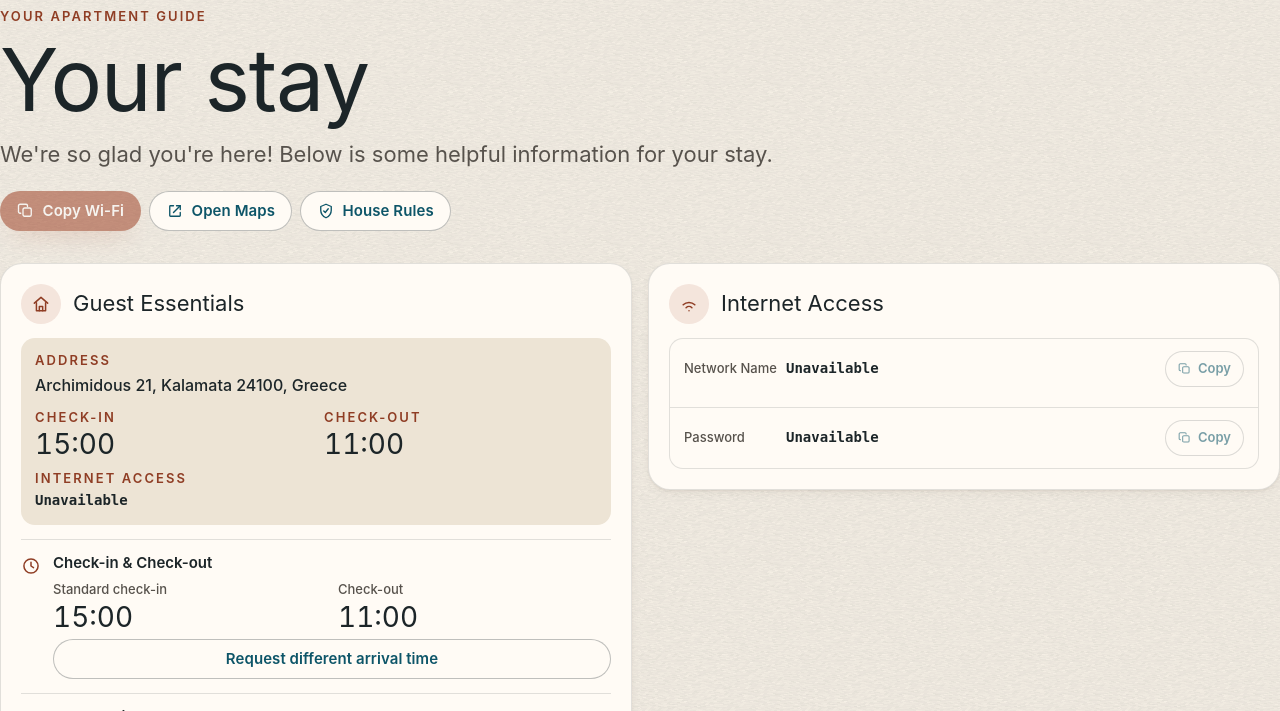
Scenario: check-in arrival-time request › says the new time was not sent when the server kept an earlier pending request
The image size is (1280, 711).
Click the button "Request different arrival time" at (332, 659), box [53, 639, 611, 679]
(page scrolled)
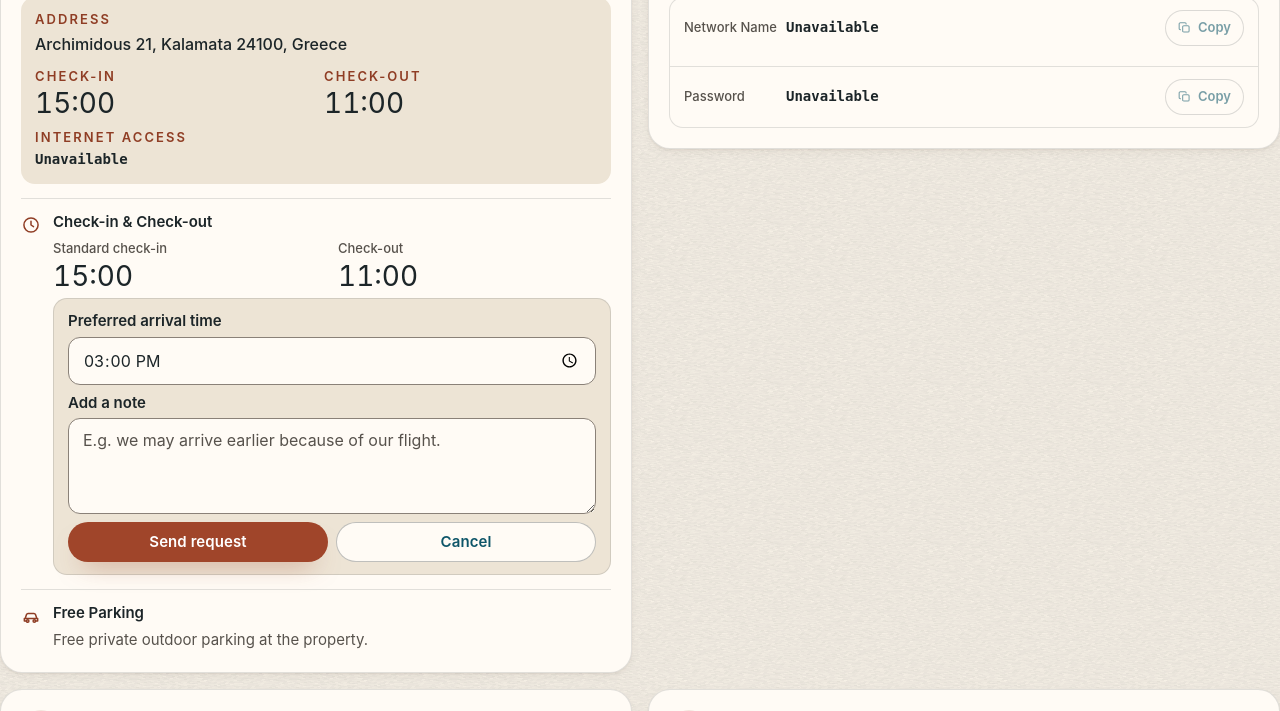
Replace the text in the time field labelled "Preferred arrival time" with "17:00" at (332, 361), box [68, 337, 596, 385]
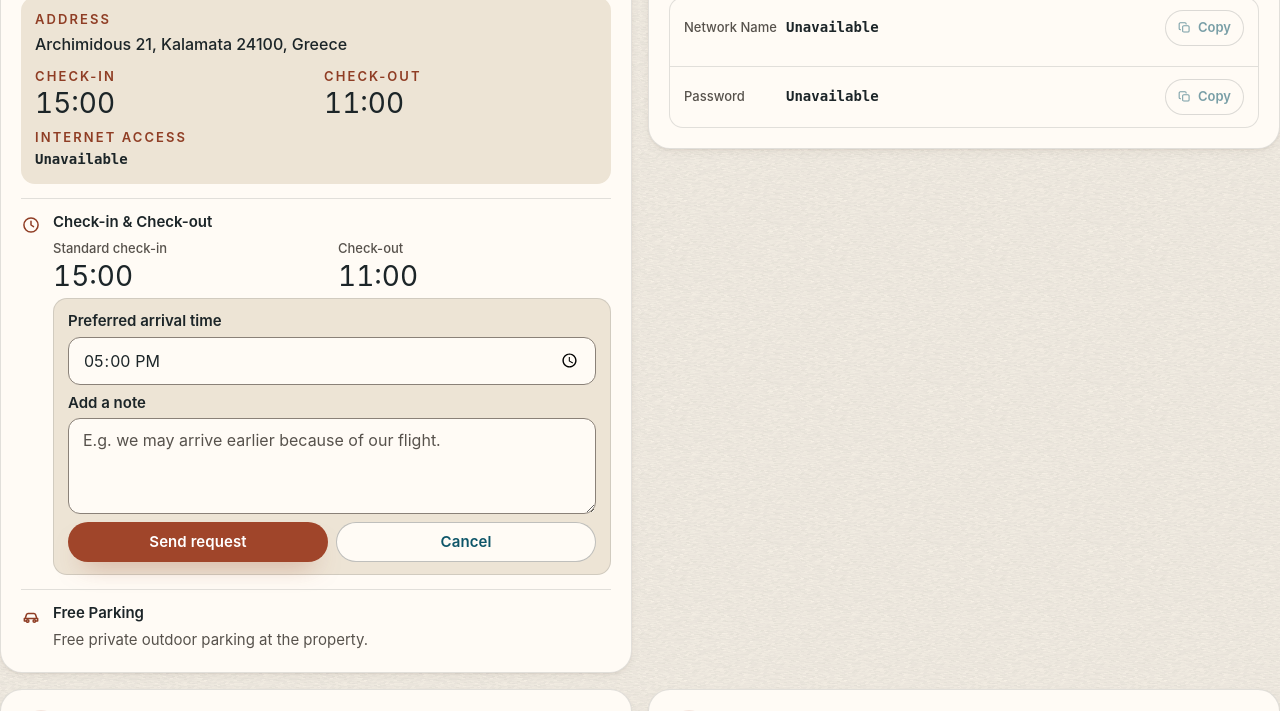
Click the button "Send request" at (198, 542), box [68, 522, 328, 562]
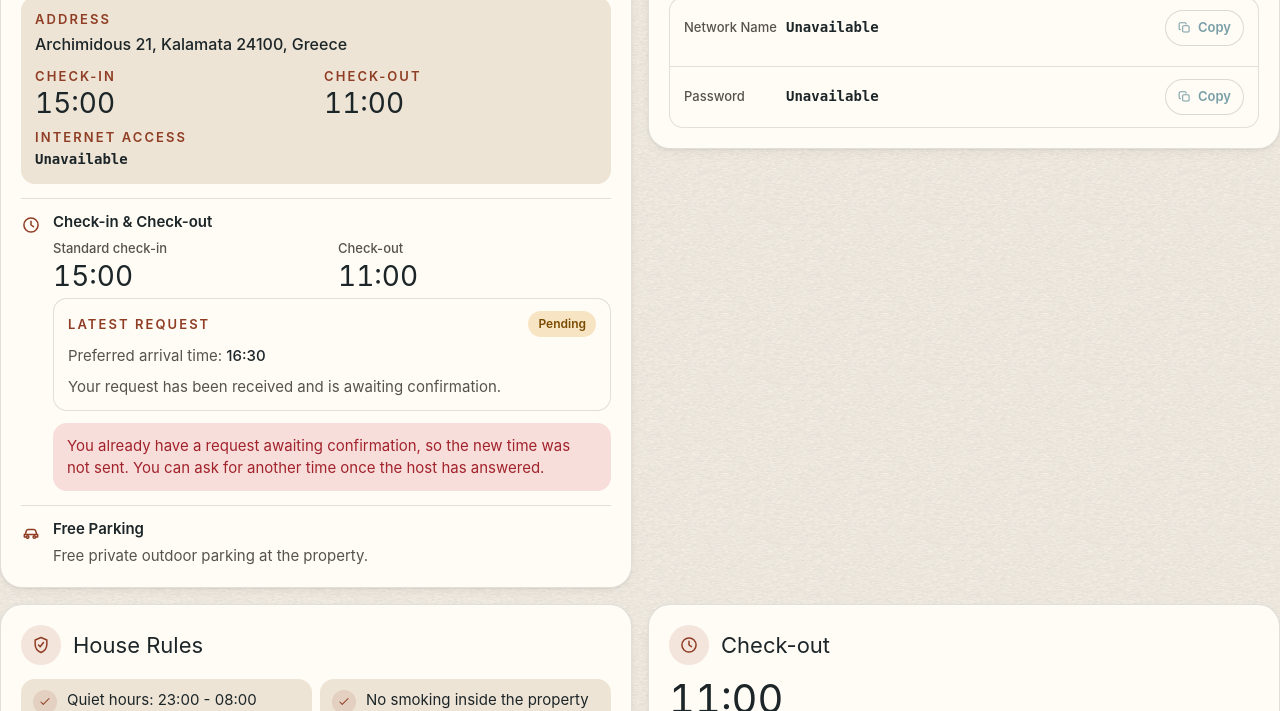
Now the message shows "the new time was not sent", box [67, 436, 570, 477]
Now the text "16:30" is shown, box [226, 346, 266, 365]
